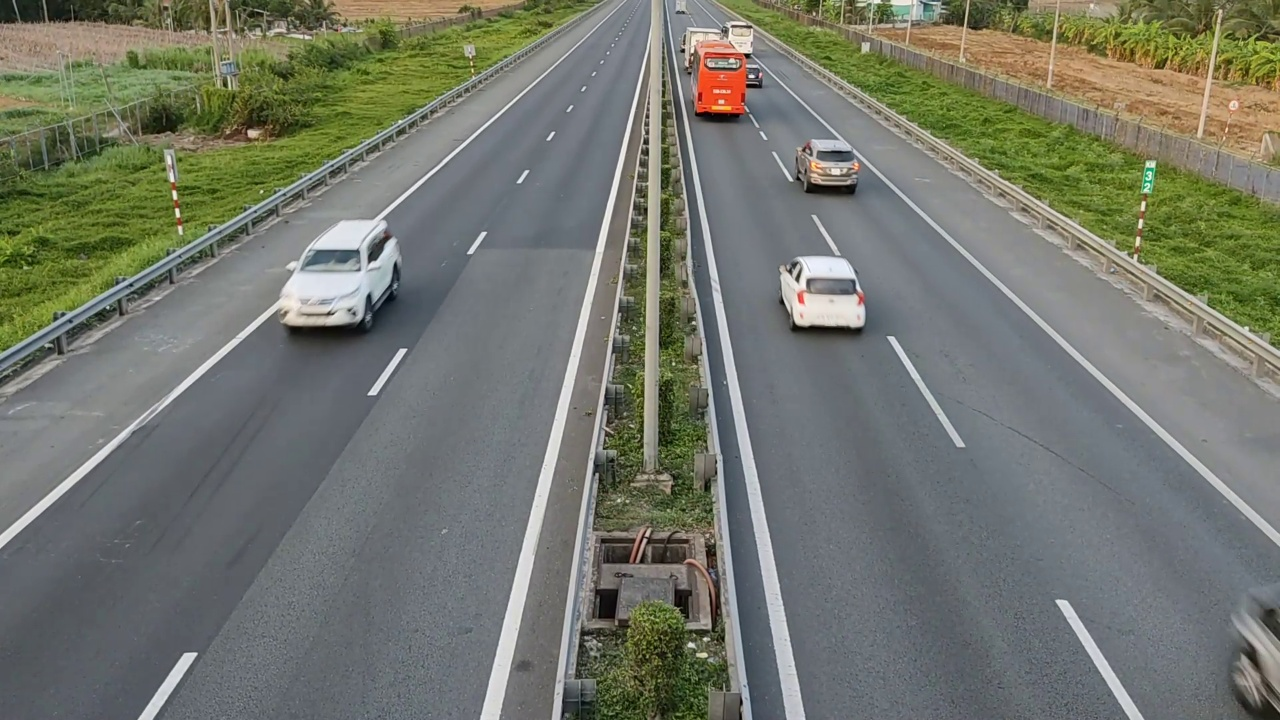bus: (691, 40, 747, 117)
car: (277, 217, 403, 333), (1225, 581, 1279, 717), (778, 255, 867, 332), (793, 138, 861, 193)
